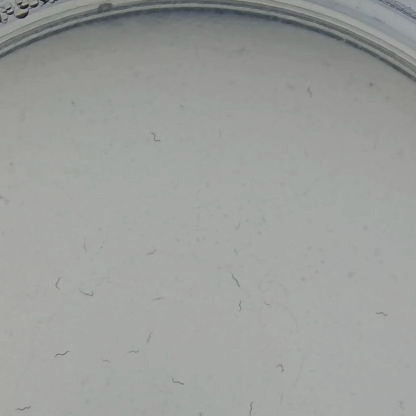worm: (233, 295, 255, 314), (144, 129, 165, 146), (51, 346, 74, 360), (369, 308, 392, 322), (272, 360, 290, 376), (163, 376, 191, 386), (230, 269, 243, 290), (244, 397, 258, 416), (12, 403, 36, 414), (52, 274, 65, 293), (0, 190, 12, 209), (151, 292, 169, 304), (140, 332, 161, 342), (77, 289, 97, 299), (396, 398, 409, 413), (305, 82, 314, 103), (80, 237, 91, 254), (126, 347, 144, 356), (145, 246, 158, 258), (99, 357, 114, 366)
